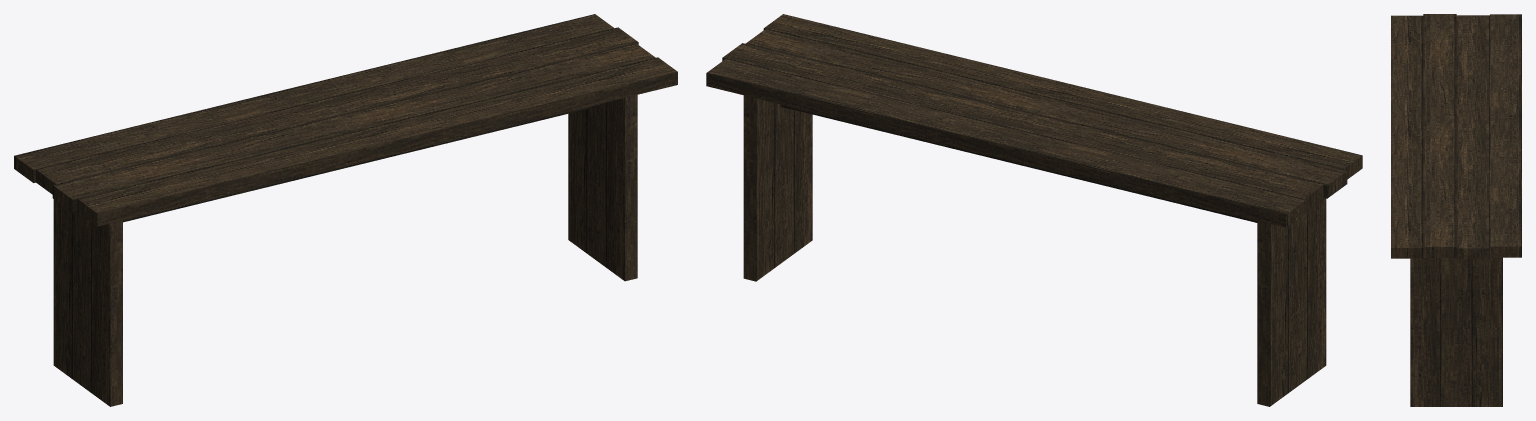
File: bench_mx_1_2.glb
The picture shows the model from 3 angles, left to right: view 1: azimuth 30°, elevation 25°; view 2: azimuth 150°, elevation 25°; view 3: azimuth 270°, elevation 25°; orthographic projection. The views are drawn at different scales.
Parts seen in each view (by area): view 1: bench_mx_1_2; view 2: bench_mx_1_2; view 3: bench_mx_1_2.
Part boxes in pixels (box(x1,y1,x2,y2)): bench_mx_1_2: box(14, 14, 677, 406); bench_mx_1_2: box(706, 14, 1362, 406); bench_mx_1_2: box(1391, 14, 1521, 406).
Size of the model in its own units: 1.86 by 0.63 by 0.438.
Materials: 1 (1 with a texture image).
